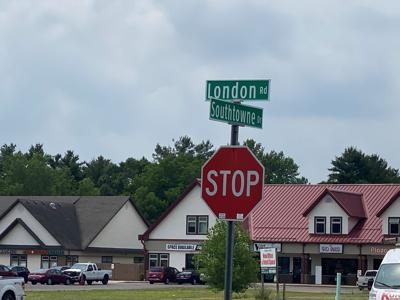stop: (203, 151, 261, 217)
